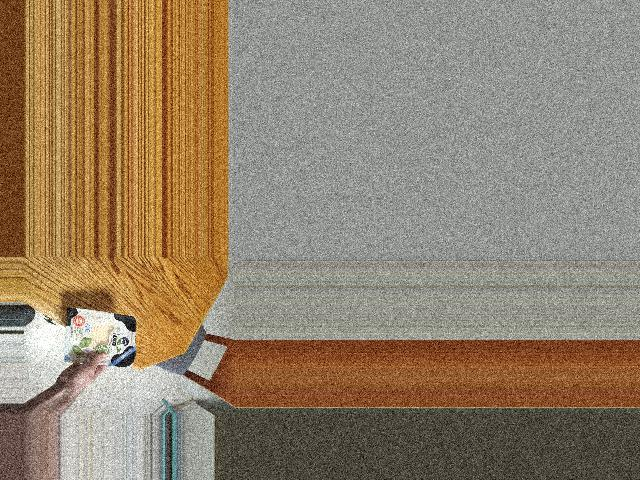cheese: (51, 316, 145, 371)
